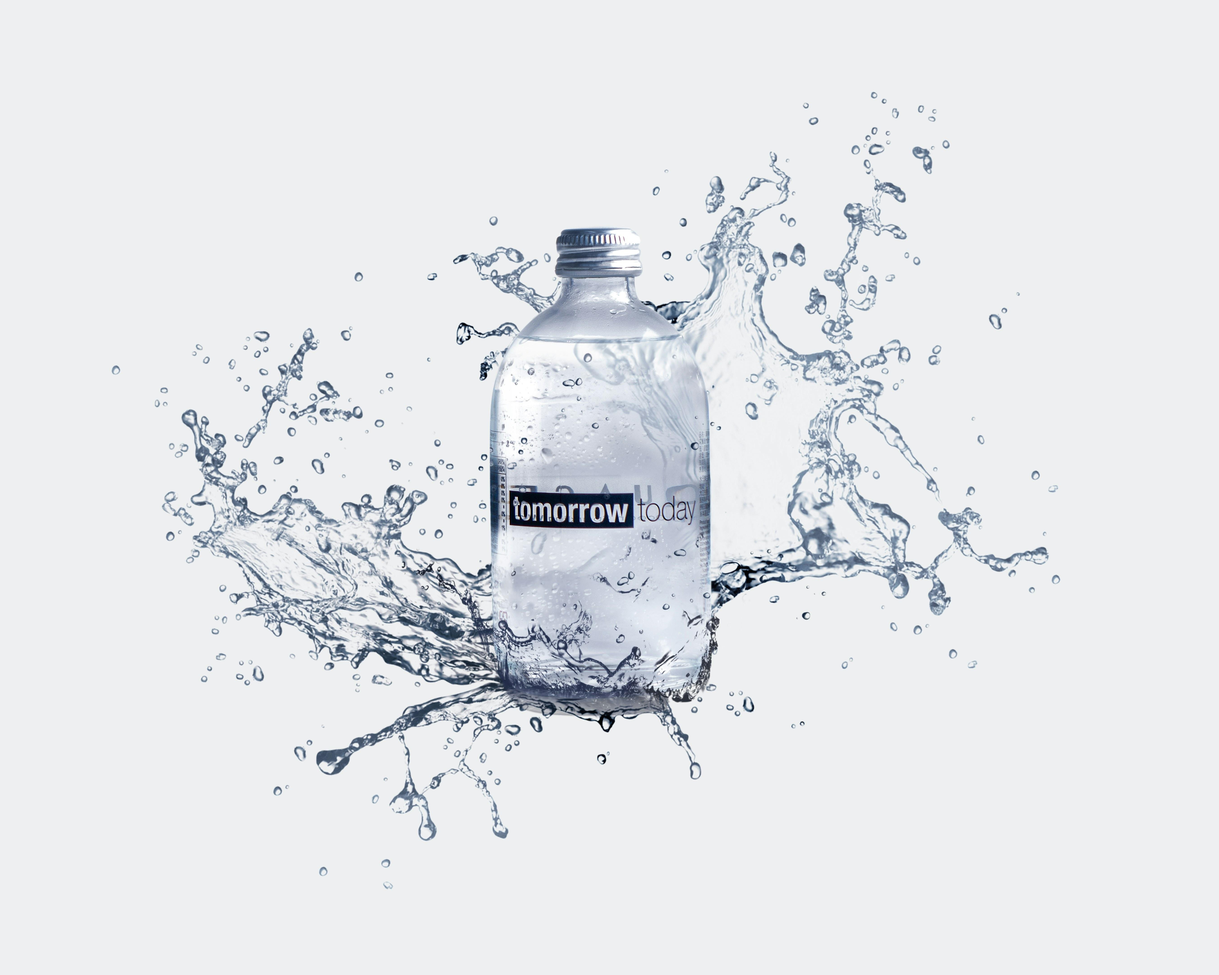Bottle-Detection: (433, 180, 807, 785)
